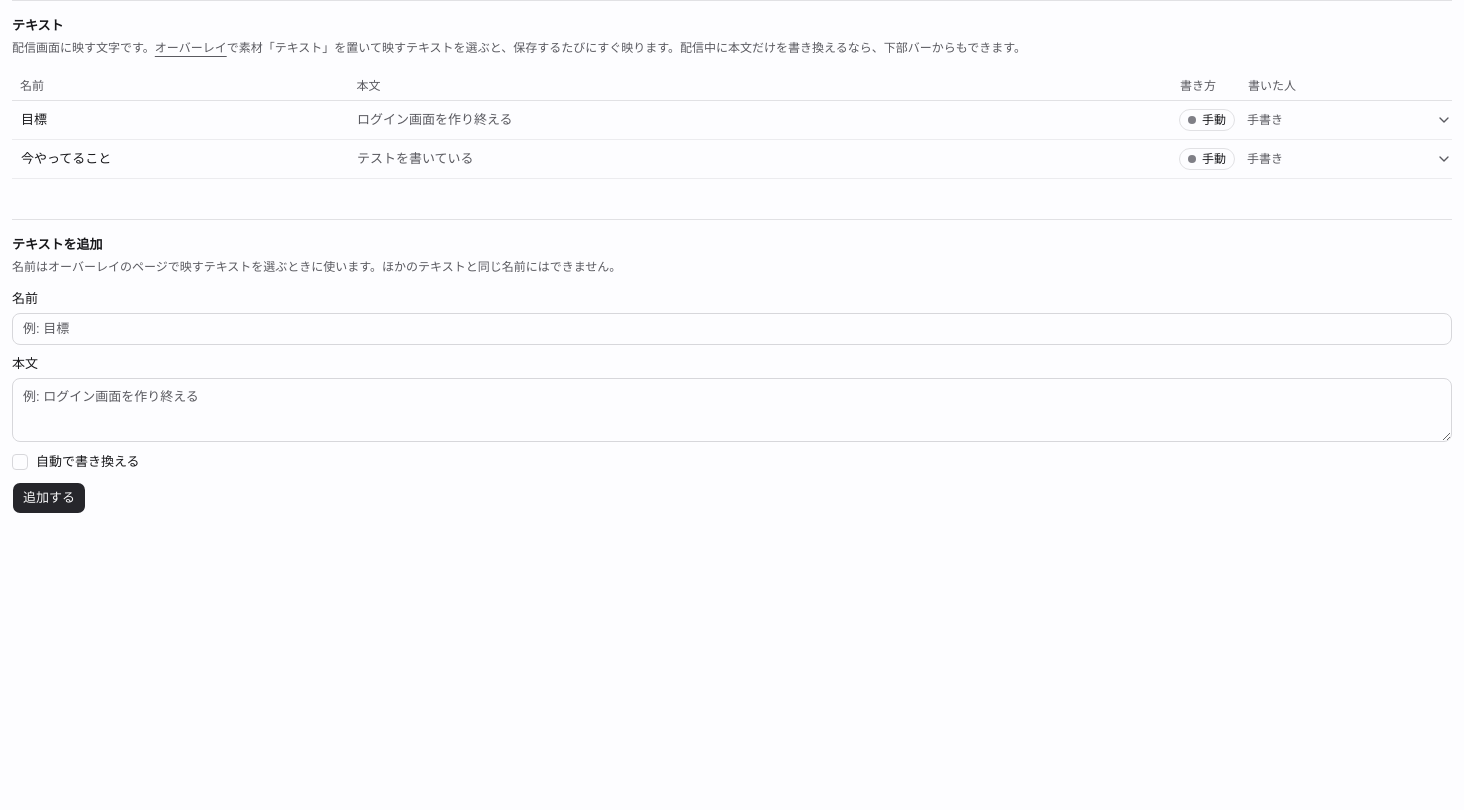
Test: 書き換え › 本文を書き換えて保存すると、Workerに書き換えてもらう
The image size is (1464, 810).
Click the button "目標 ログイン画面を作り終える 手動 手書き" at (435,119), box [12,102,1428,138]
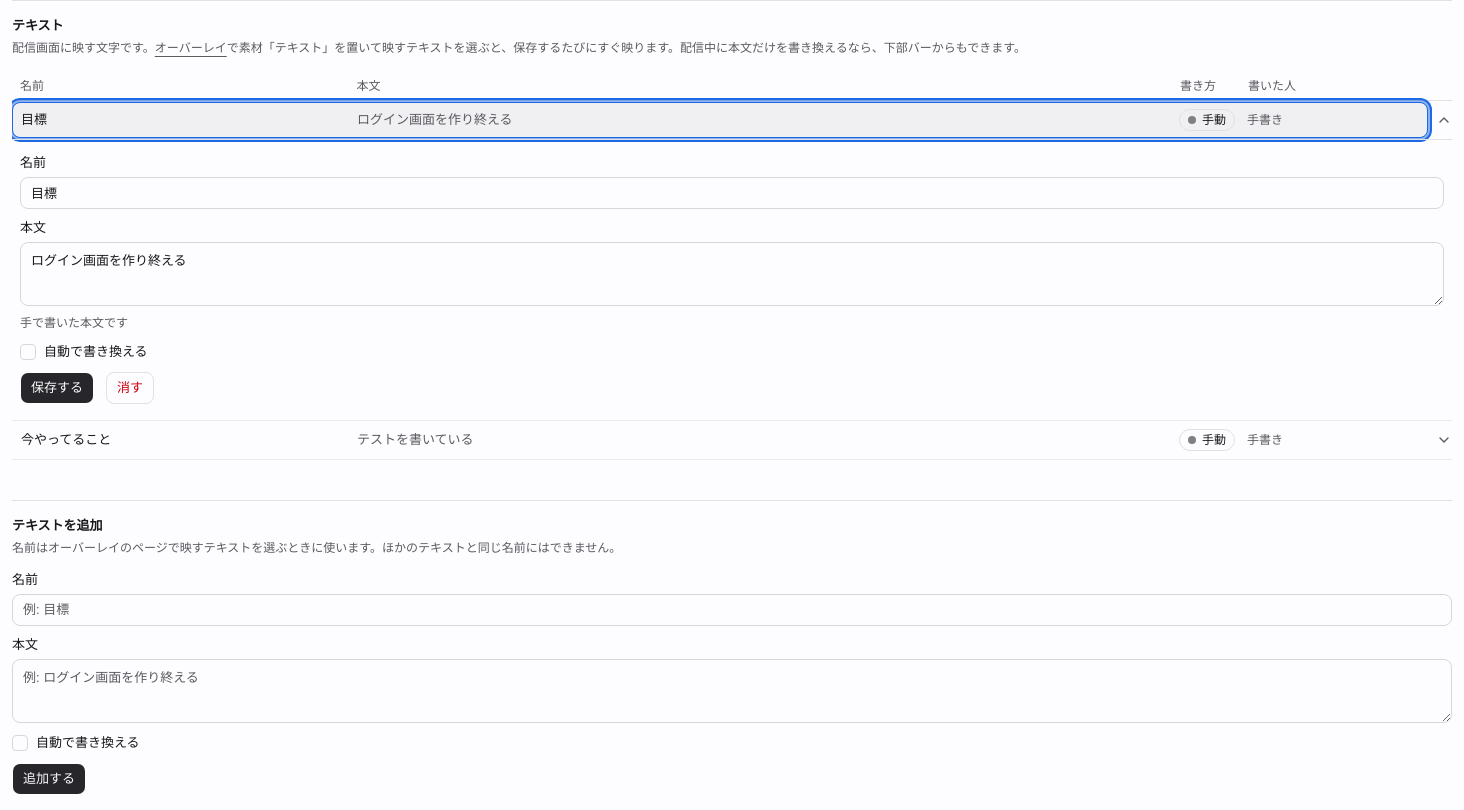
Replace the text in the text box labelled "本文" below "書き方" with "ログイン画面をデプロイする" at (732,274), box [20,242,1444,306]
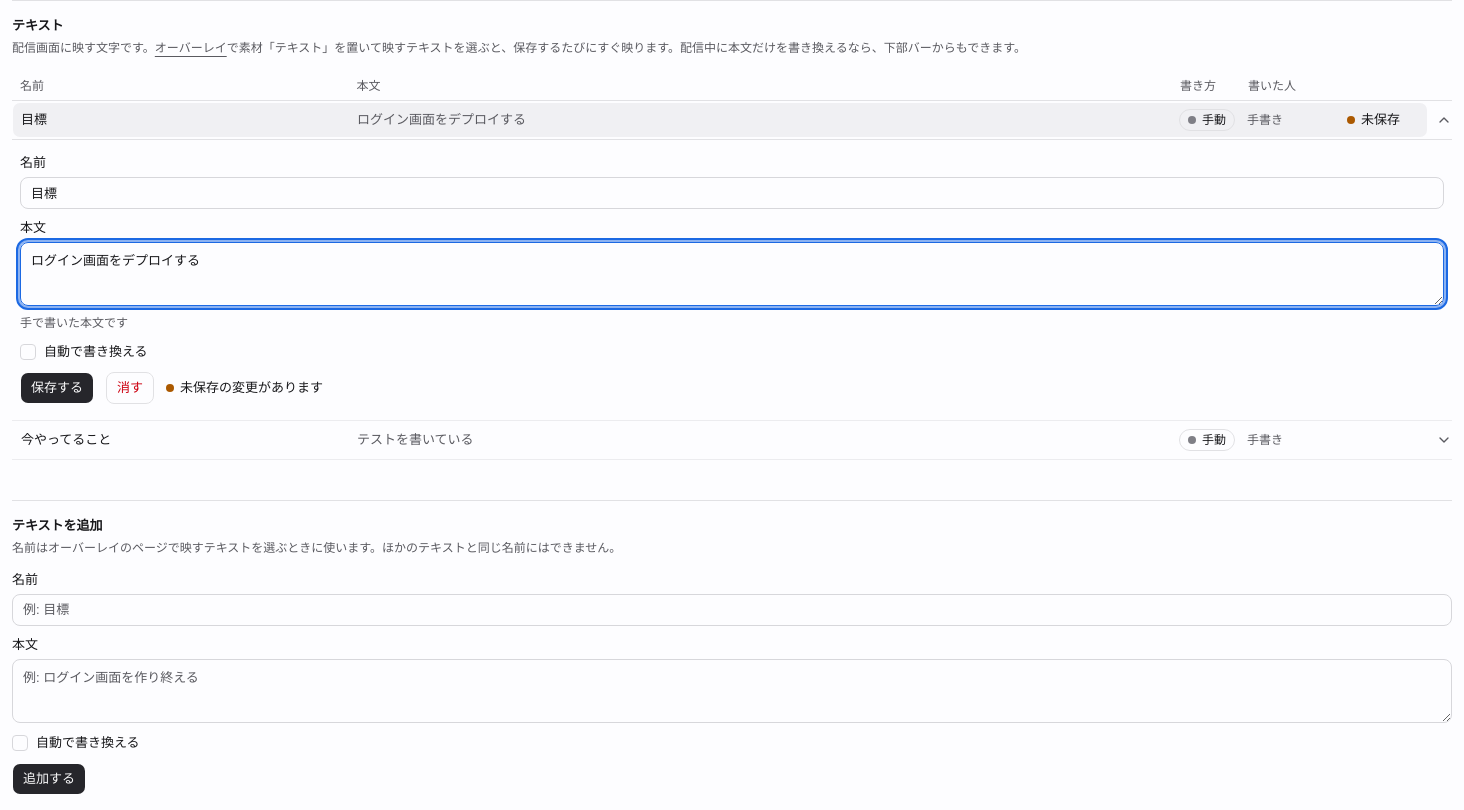
Click the button with aria-label "目標 を保存する" at (57,388), box [20,372,94,404]
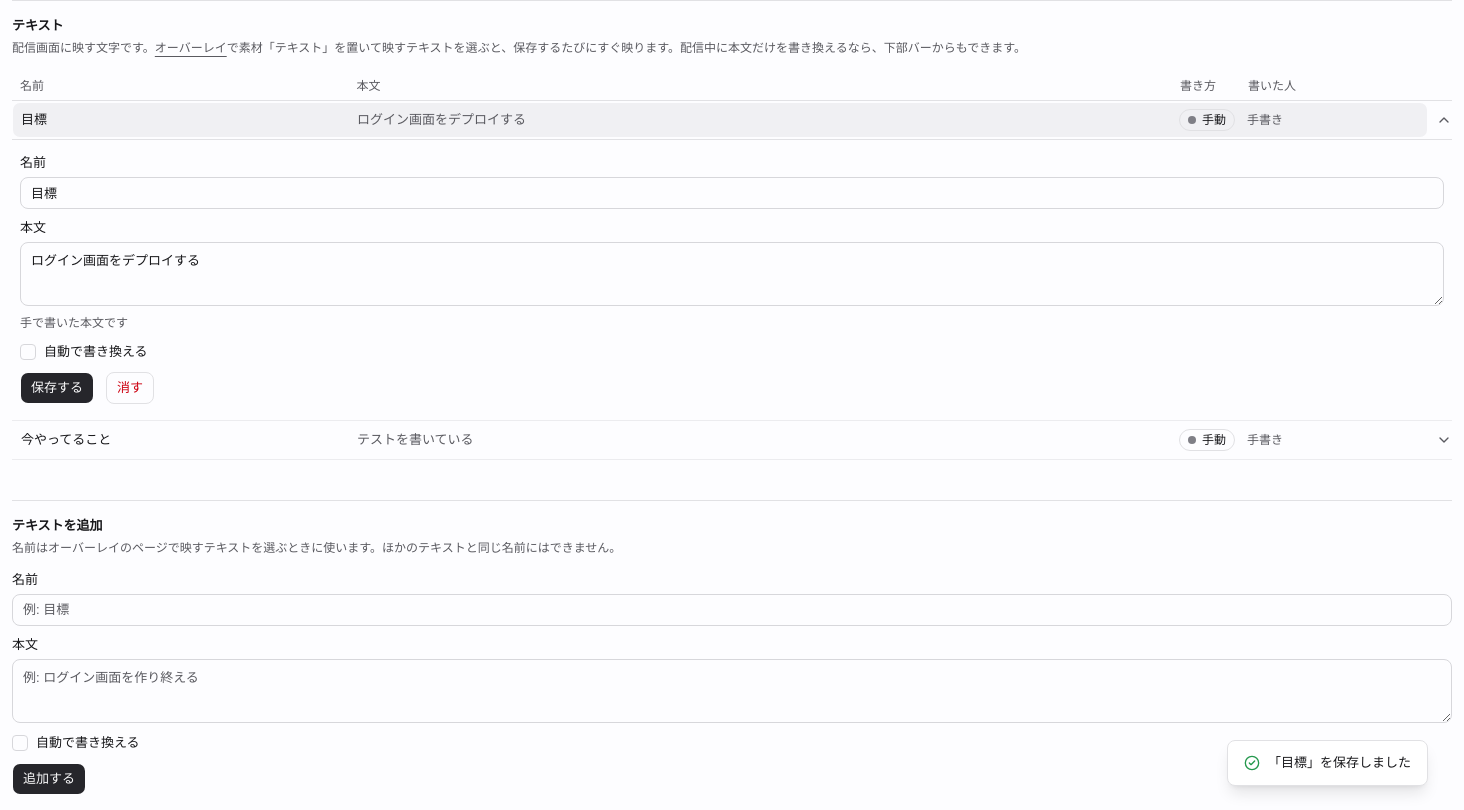
Check: the text "「目標」を保存しました" is shown, box [1227,740,1428,786]
